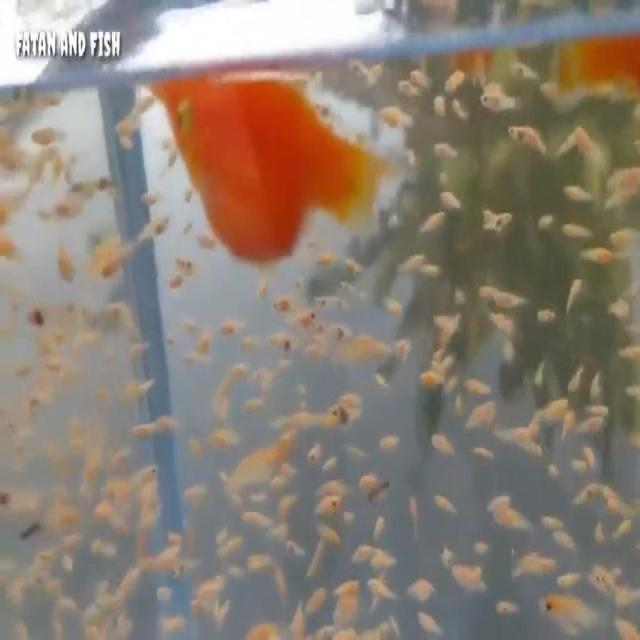PlatyFish: (145, 67, 396, 282)
